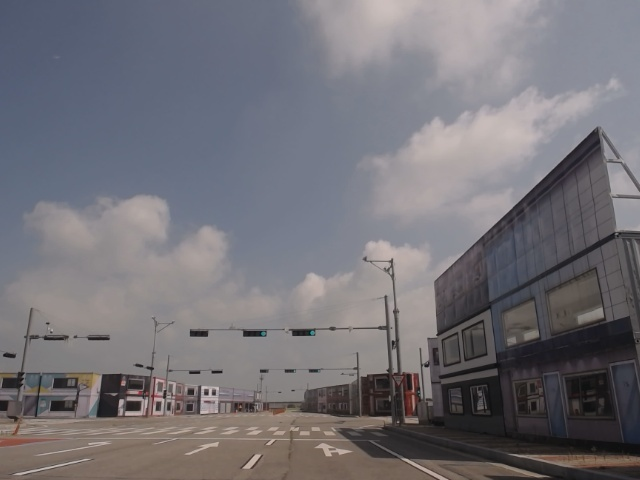straight_green_4: (292, 328, 316, 337), (242, 330, 268, 338)
